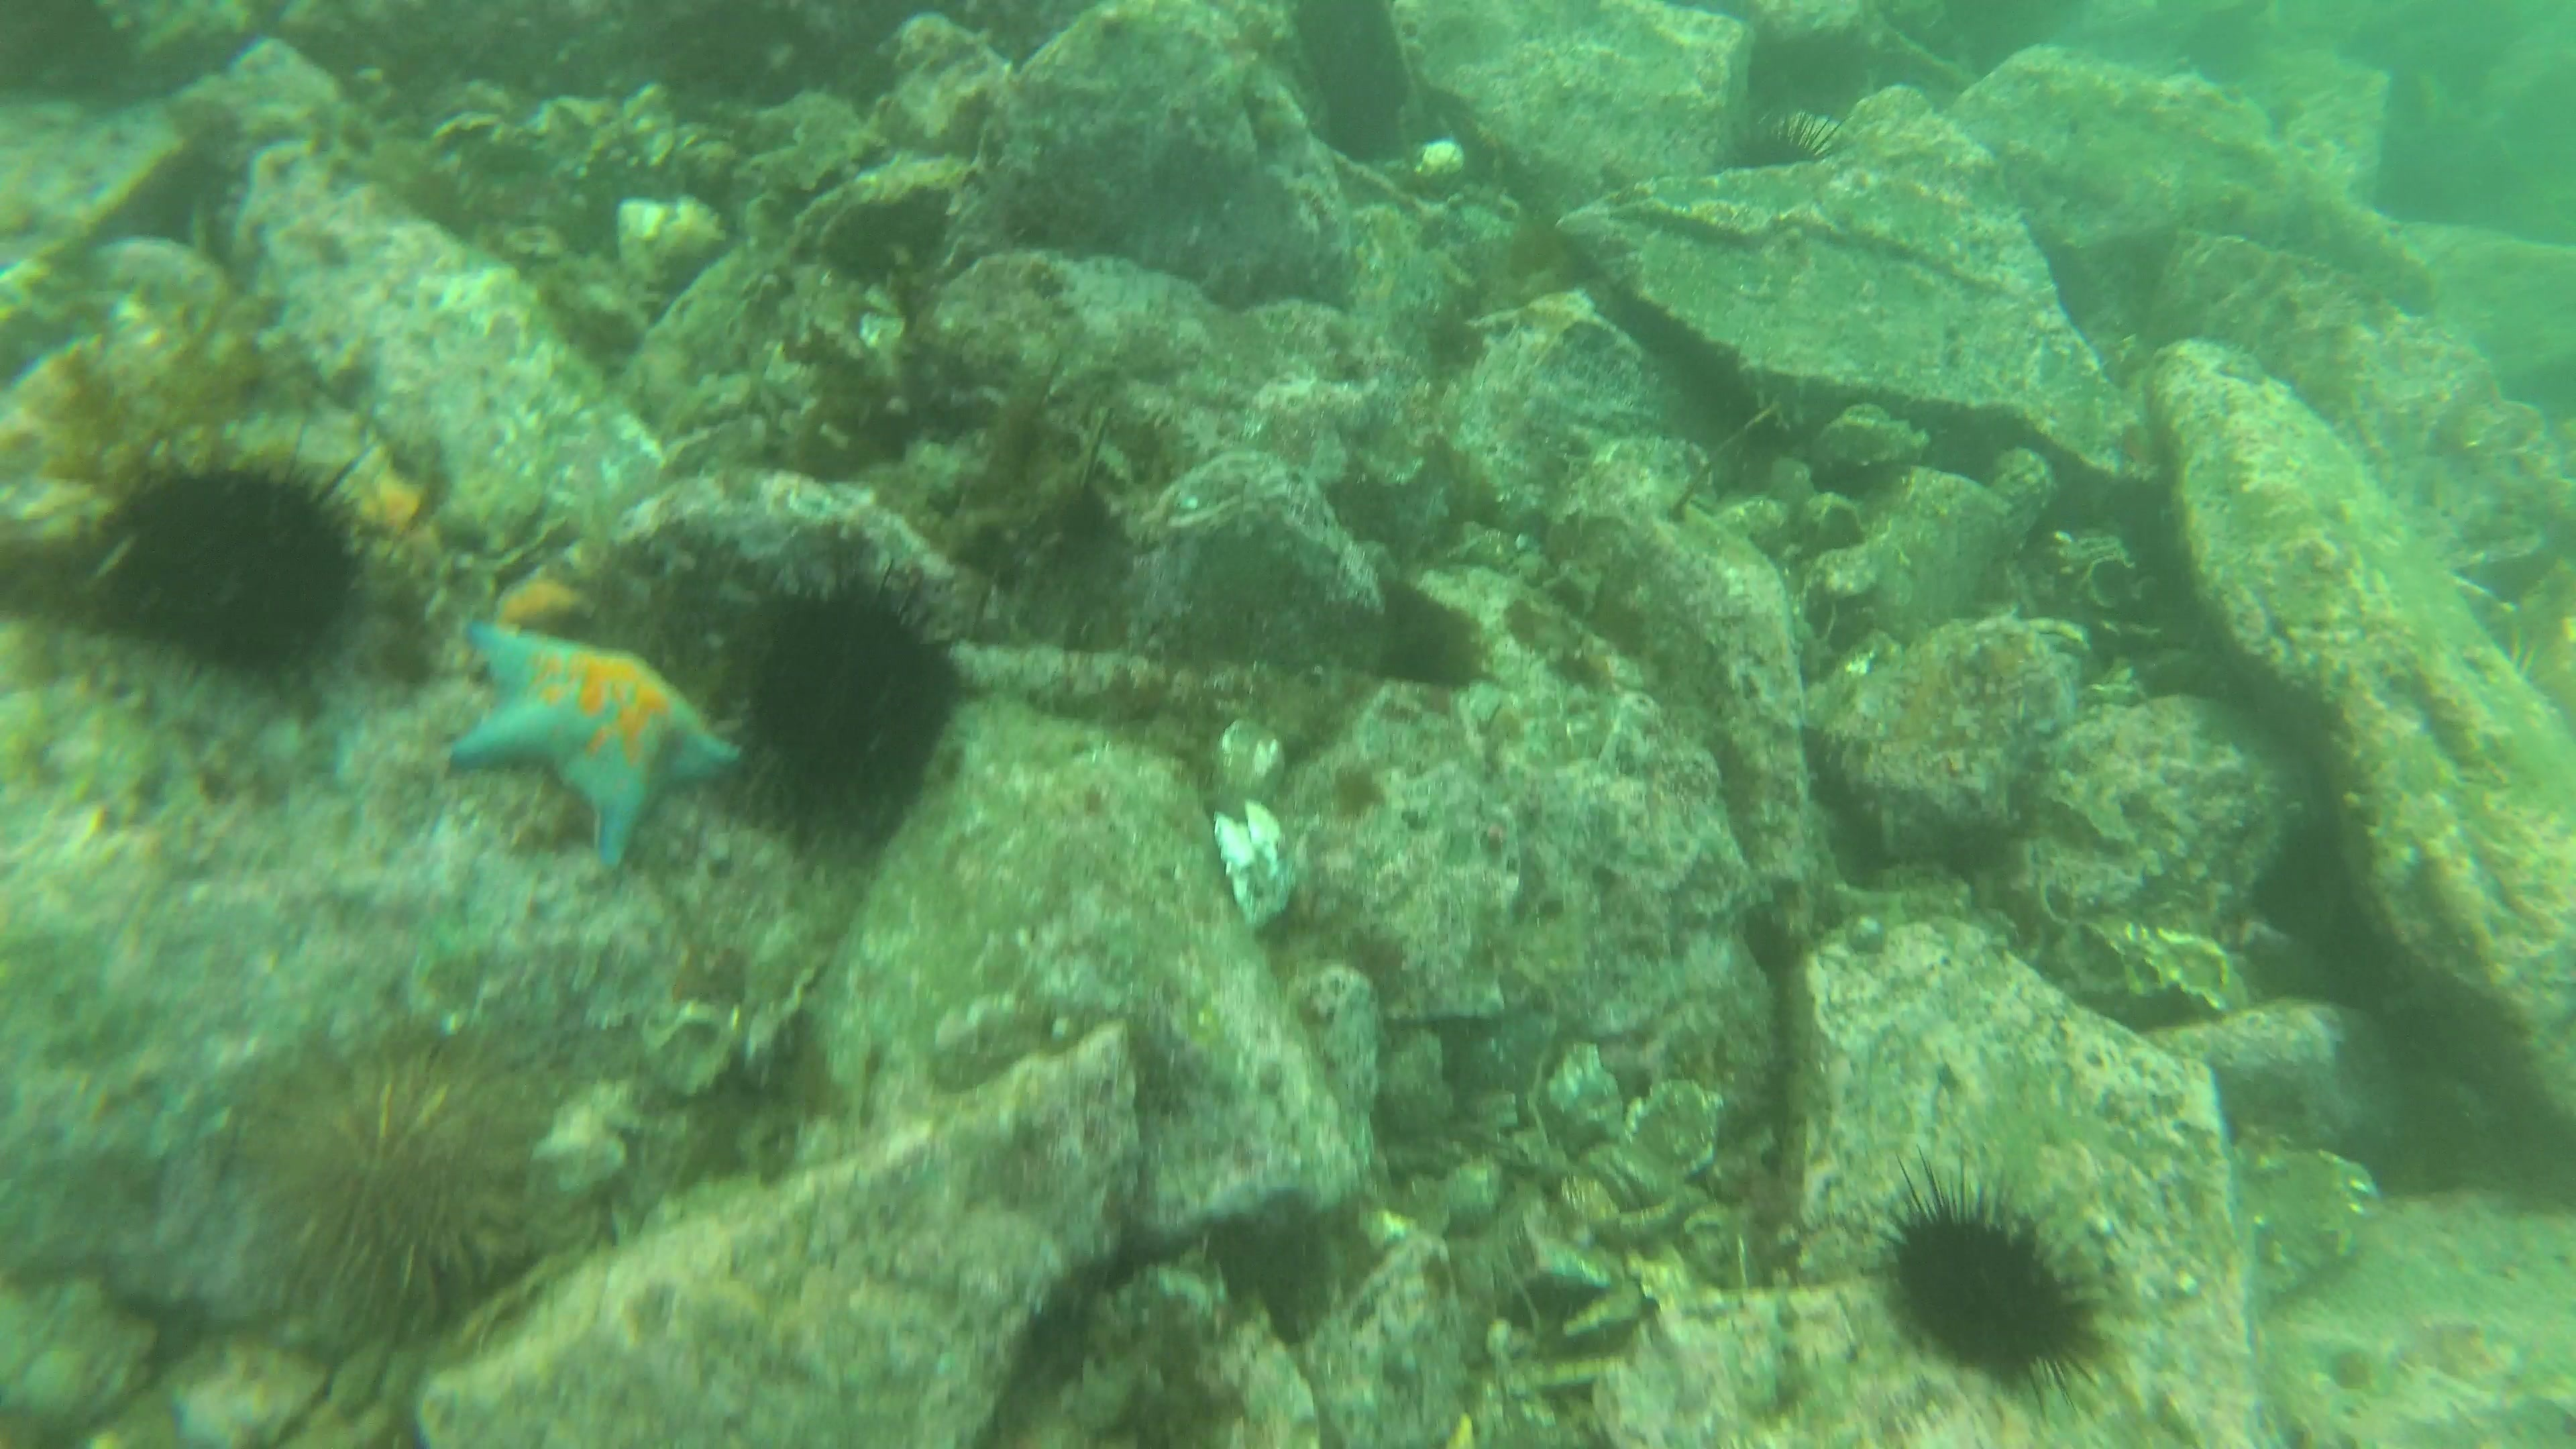echinus: (232, 1039, 556, 1338), (62, 432, 387, 695), (713, 556, 978, 844), (1863, 1168, 2123, 1405), (1711, 110, 1840, 211)
starfish: (441, 610, 747, 870), (356, 469, 441, 550)
